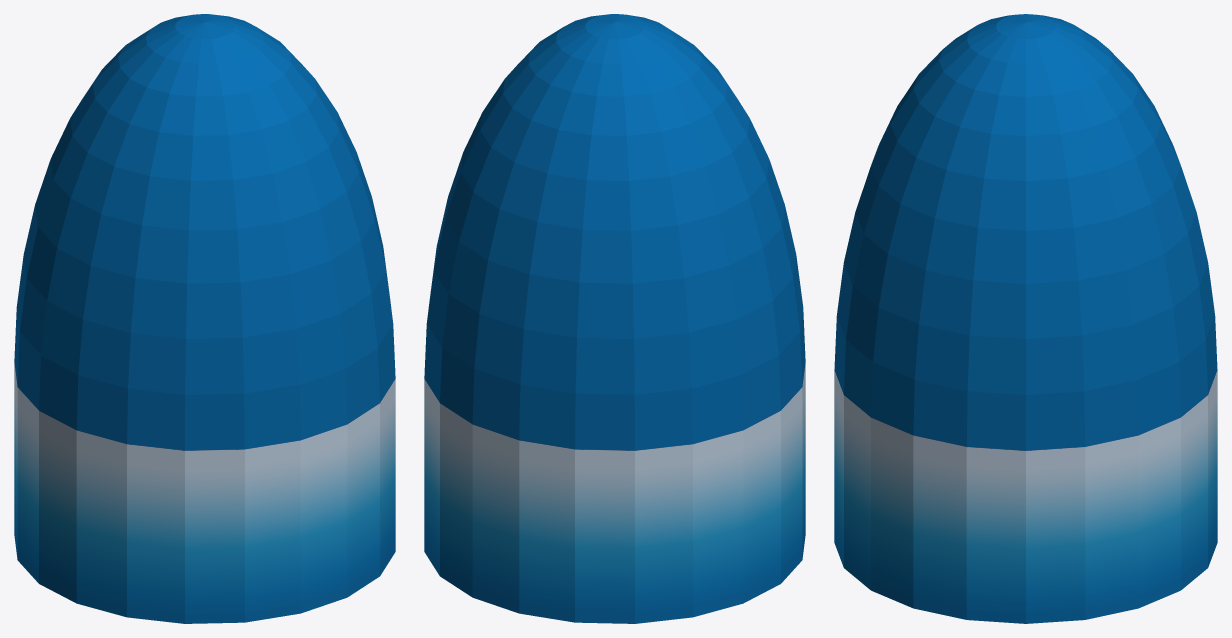
The model's file is Background.obj.
The picture shows the model from 3 angles, left to right: view 1: azimuth 30°, elevation 25°; view 2: azimuth 150°, elevation 25°; view 3: azimuth 270°, elevation 25°; orthographic projection.
Size of the model in its own units: 200 by 300 by 200.
2 materials, 2 textured.
